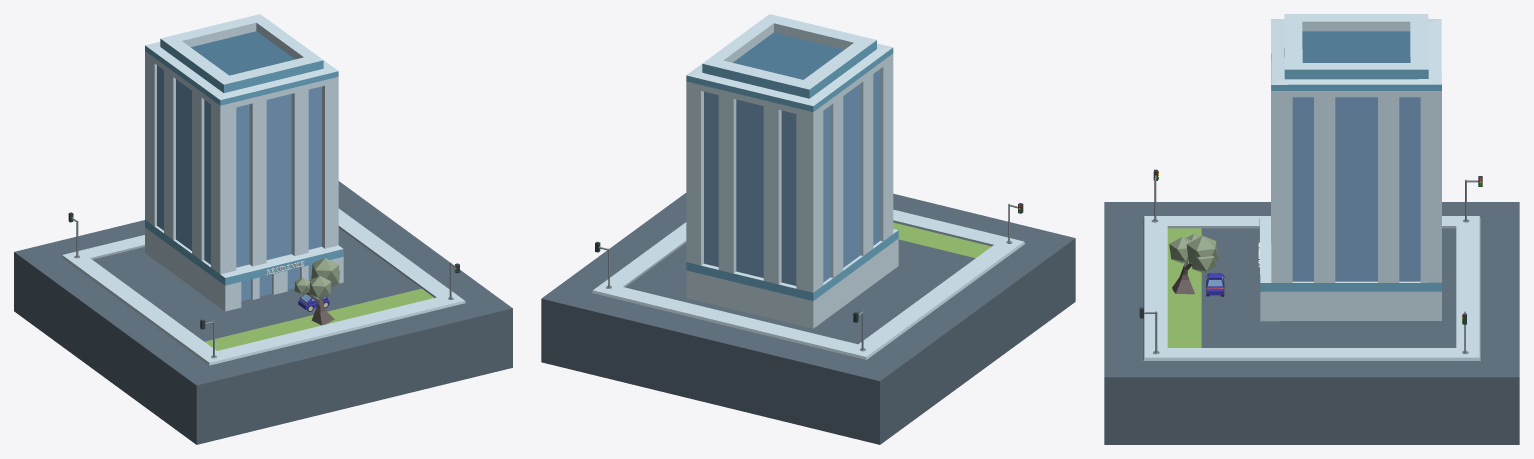
The model's file is apartment-1.glb.
3 views of the same model, side by side, from view 1: azimuth 30°, elevation 25°; view 2: azimuth 150°, elevation 25°; view 3: azimuth 270°, elevation 25° (orthographic). The views are drawn at different scales.
Parts seen in each view (by area): view 1: Cube.001, Cube.002, Cube.004; view 2: Cube.001, Cube.002; view 3: Cube.001, Cube.002, Cube.004.
Boxes of the visible parts, x1,y1,x2,y2 form: Cube.001: (14,181,512,444); Cube.002: (145,14,343,311); Cube.004: (294,258,340,325); Cube.001: (541,193,1075,444); Cube.002: (686,14,898,328); Cube.001: (1104,202,1519,444); Cube.002: (1259,14,1441,321); Cube.004: (1169,233,1218,294).
Bounding box in the file's own units: 17.05 × 14.23 × 17.05.
